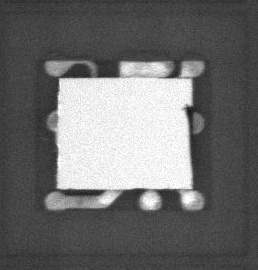DIE_BROKEN: (181, 102, 193, 130)
